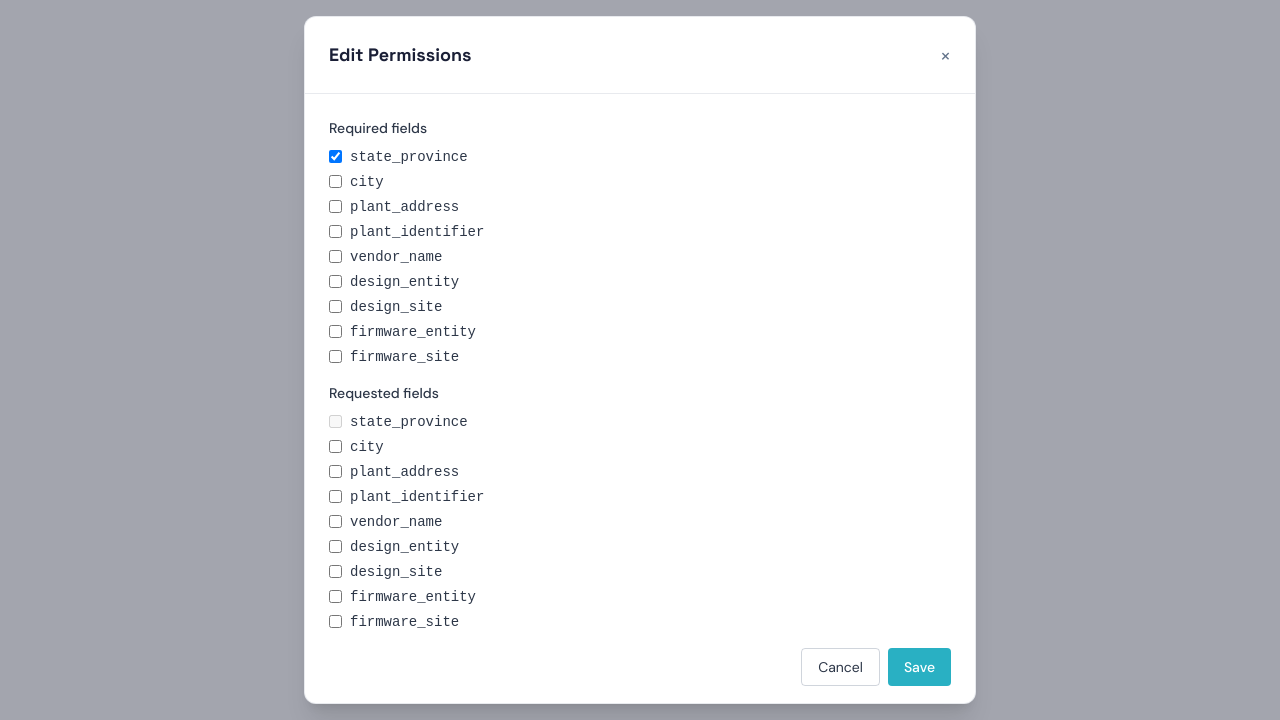
Test: EditPermissionsModal › shows a grace-preview banner when adding a required field that not all installers cover
Click the checkbox labelled "plant_address" at x=336, y=206, box [329, 200, 342, 213]
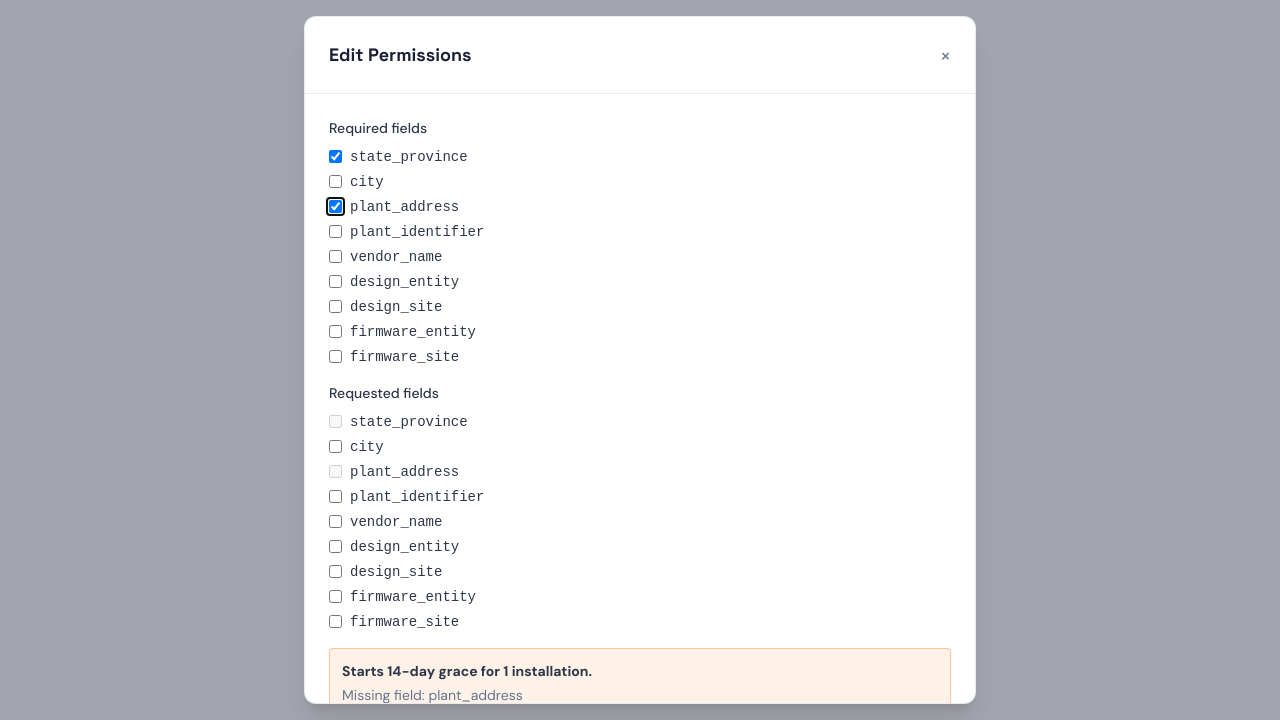
expect the text "Starts 14-day grace for 1 installation." is shown: met, box [342, 662, 592, 680]
